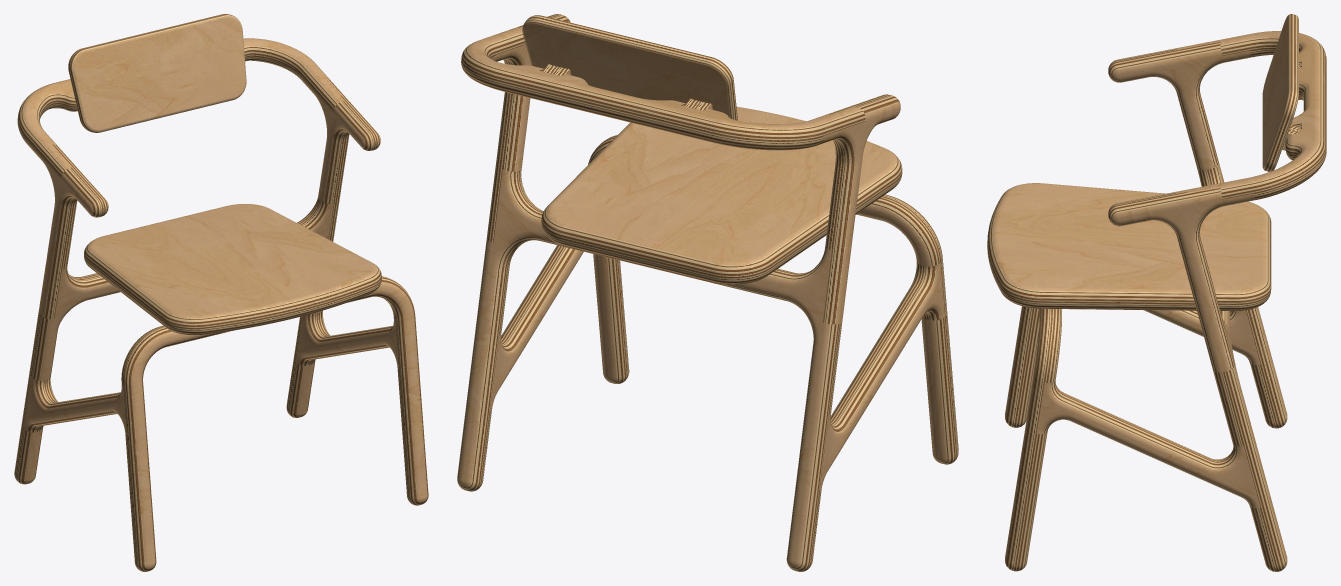
File: bullhorn-chair.glb
The picture shows the model from 3 angles, left to right: view 1: azimuth 30°, elevation 25°; view 2: azimuth 150°, elevation 25°; view 3: azimuth 270°, elevation 25°; orthographic projection. The views are drawn at different scales.
Parts seen in each view (by area): view 1: Bullhorn Chair.001; view 2: Bullhorn Chair.001; view 3: Bullhorn Chair.001.
Boxes of the visible parts, box(x1,y1,x2,y2) form: Bullhorn Chair.001: box(14, 14, 428, 571); Bullhorn Chair.001: box(457, 14, 958, 571); Bullhorn Chair.001: box(987, 14, 1326, 571).
Bounding box in the file's own units: 0.58 × 0.7885 × 0.5439.
Materials: 2 (2 with a texture image).
